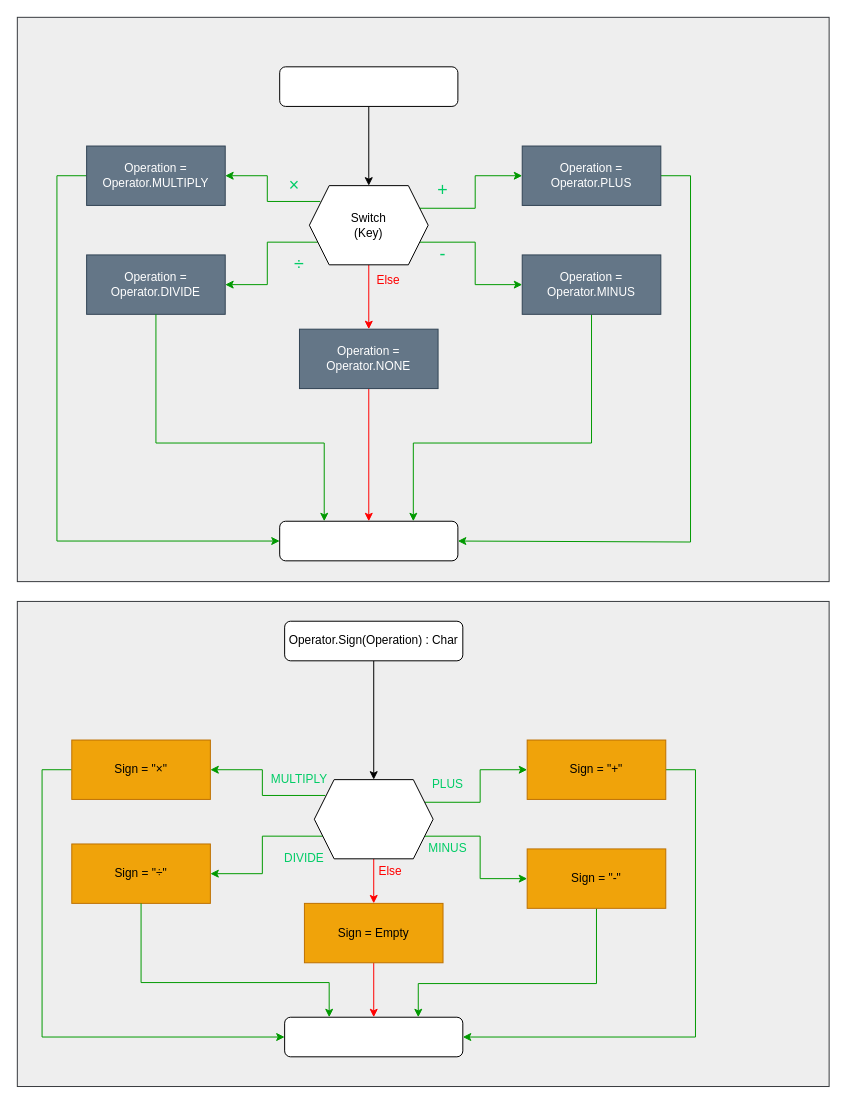
Image size: 846x1104. Some labels were removed from this diagram. The shapes that lost their labels are listed below. From the top down, each one's centre as x and y in pixels, then its label:
the point at 368,86: Operator.Get(Key) : Operator
the point at 368,540: Return Operation
the point at 373,819: Switch (Operation)
the point at 373,1036: Return Sign
